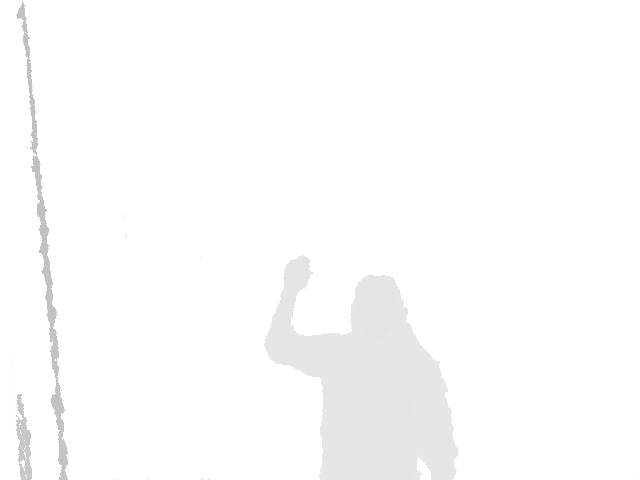hand: (282, 254, 313, 296)
head: (349, 274, 410, 341)
person: (263, 254, 460, 480)
